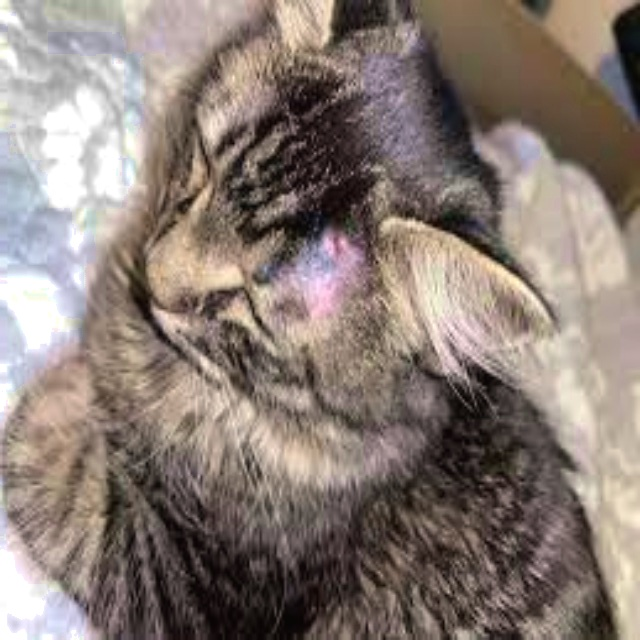ringworm: (282, 219, 369, 350)
